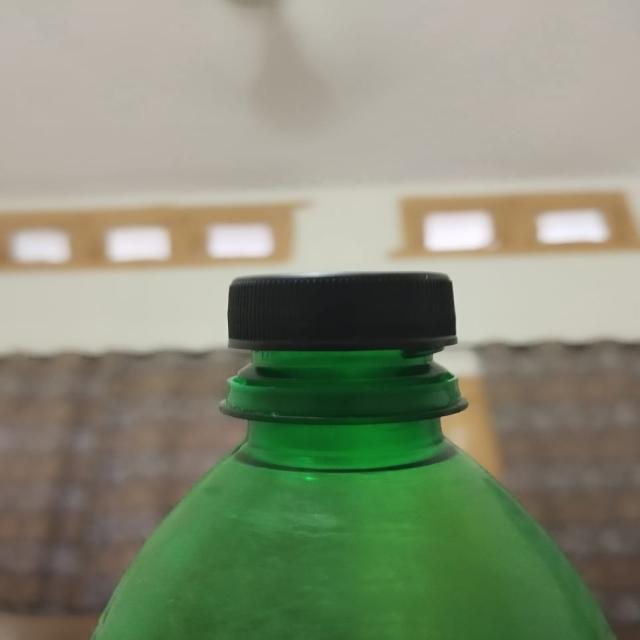cap: (227, 270, 463, 408)
